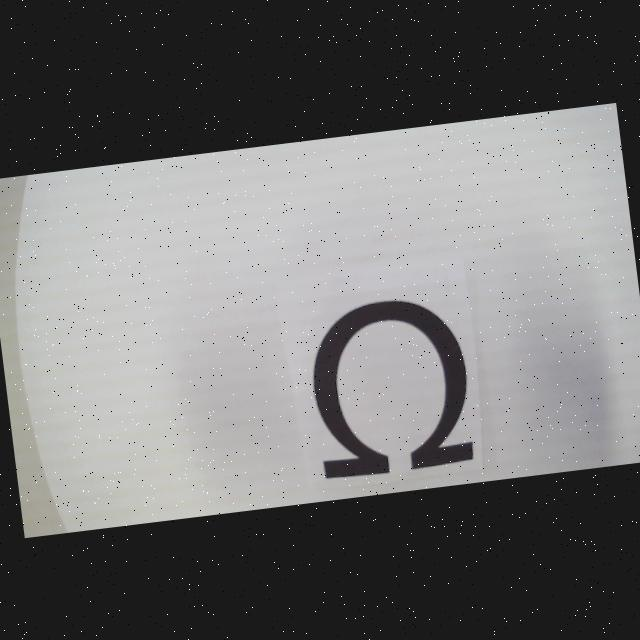OMEGA: (304, 293, 476, 482)
